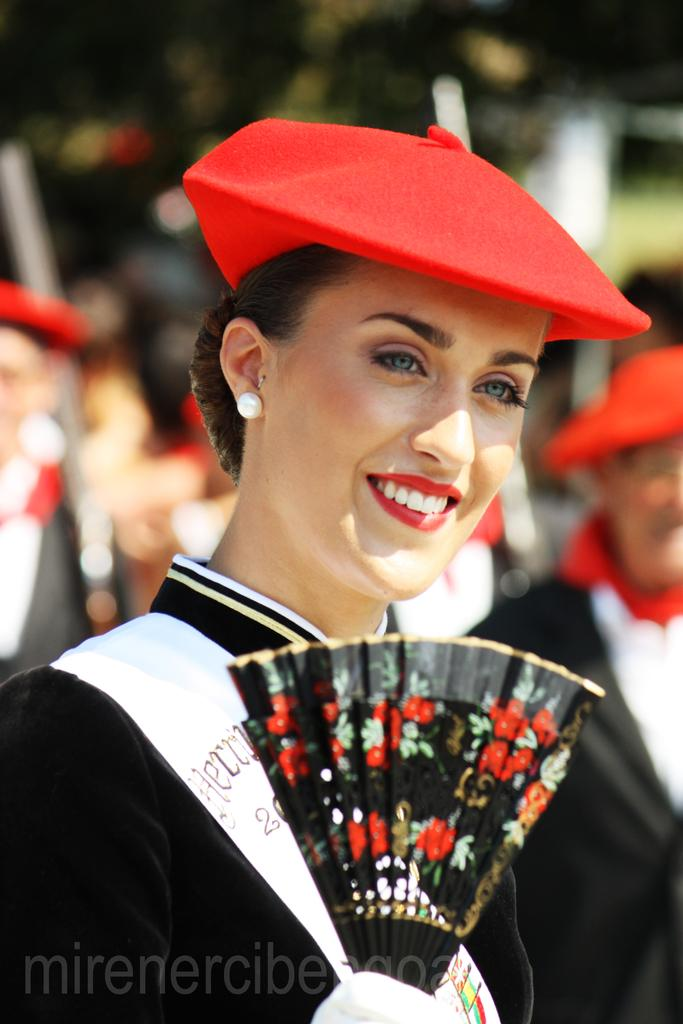Hat: (178, 114, 644, 348), (530, 332, 682, 470), (0, 286, 80, 358)
